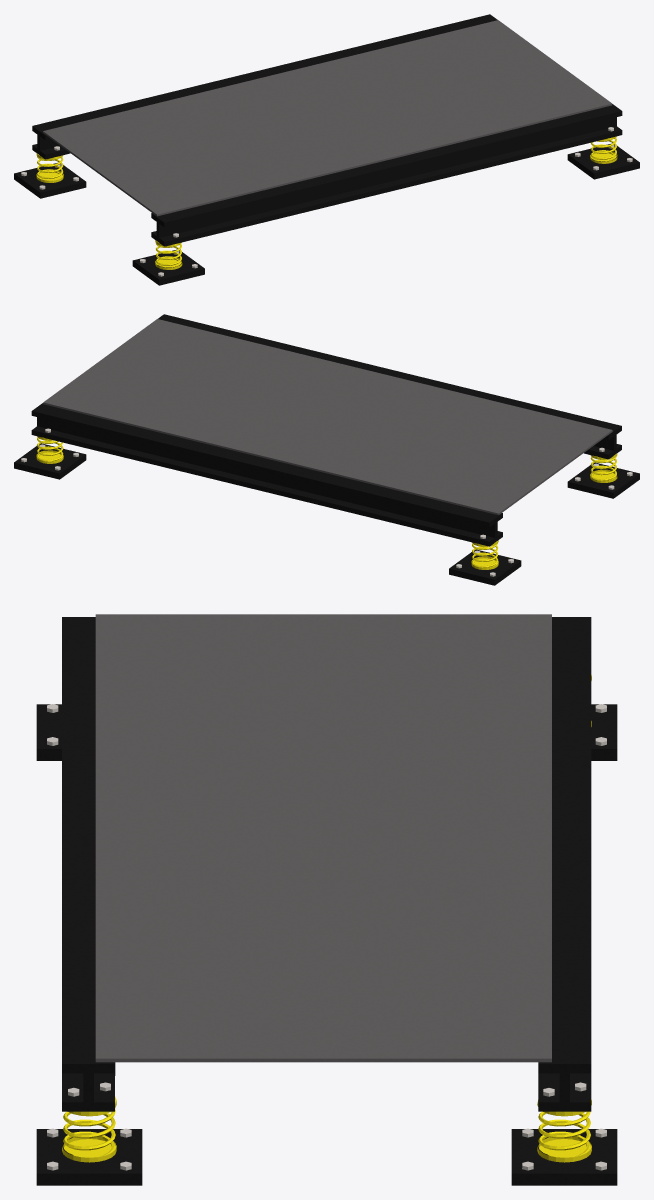
The model's file is pumpbaseFullTop.fbx.
3 renders of one model, top to bottom at view 1: azimuth 30°, elevation 25°; view 2: azimuth 150°, elevation 25°; view 3: azimuth 270°, elevation 25°, orthographic. The views are drawn at different scales.
Visible parts, largest first — view 1: PumpMountfulltop; view 2: PumpMountfulltop; view 3: PumpMountfulltop.
Boxes of the visible parts, box(x1,y1,x2,y2) form: PumpMountfulltop: box(14, 14, 639, 285); PumpMountfulltop: box(14, 314, 639, 585); PumpMountfulltop: box(36, 614, 617, 1185).
Size of the model in its own units: 5.25 by 0.597 by 2.75.
